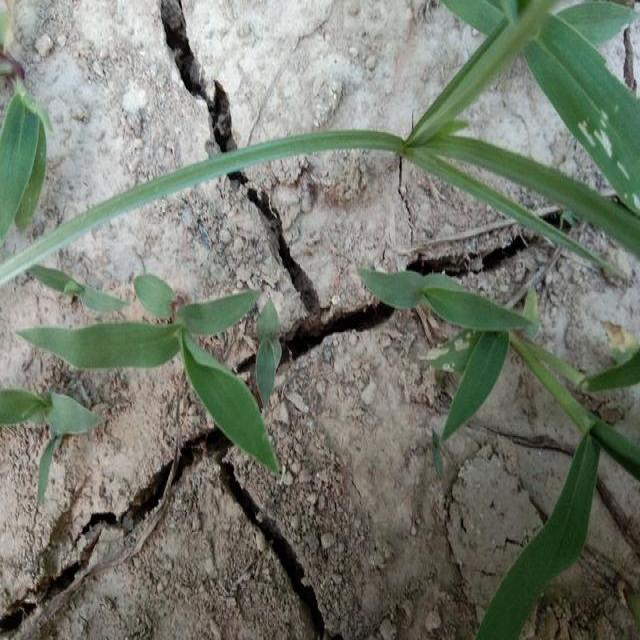weed: (429, 23, 638, 288), (16, 141, 396, 241), (32, 288, 284, 418), (470, 2, 640, 183), (504, 371, 579, 640), (360, 280, 523, 351), (558, 343, 640, 480), (0, 369, 89, 494), (26, 259, 124, 320), (8, 83, 45, 244)
